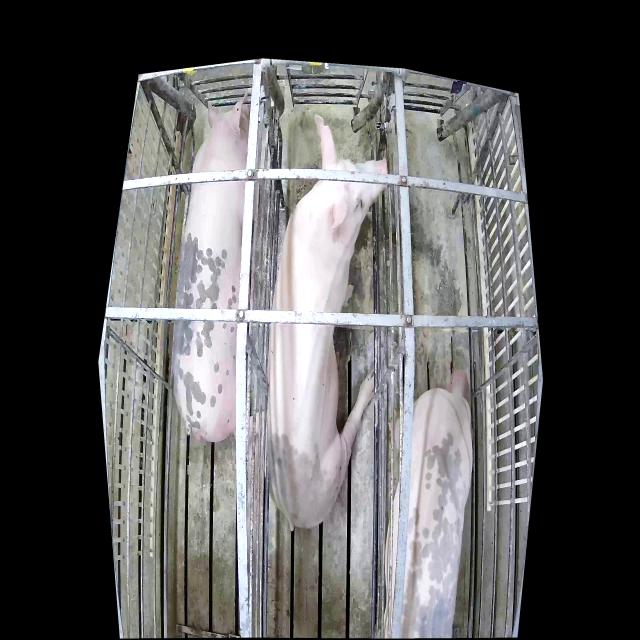pig: (268, 114, 391, 526), (174, 91, 250, 441), (384, 369, 473, 638)
